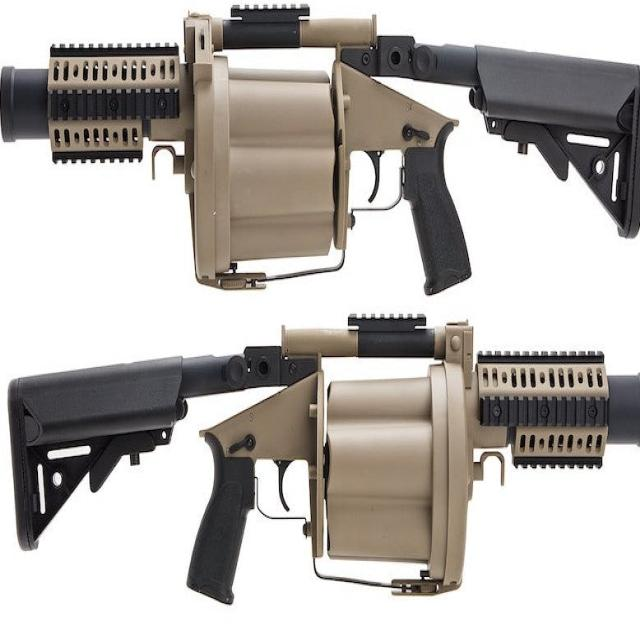Weapon: (0, 4, 640, 293), (9, 315, 640, 600)
